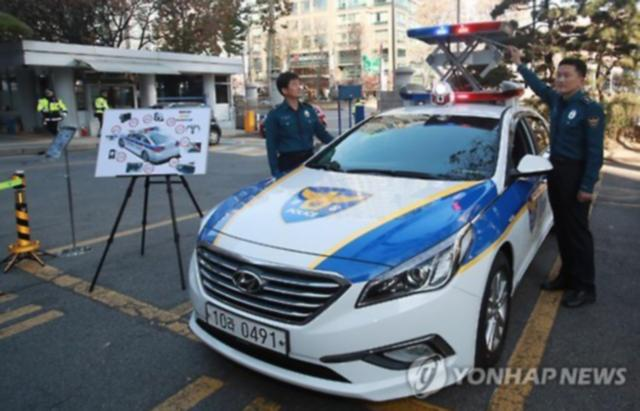police: (193, 88, 557, 393)
